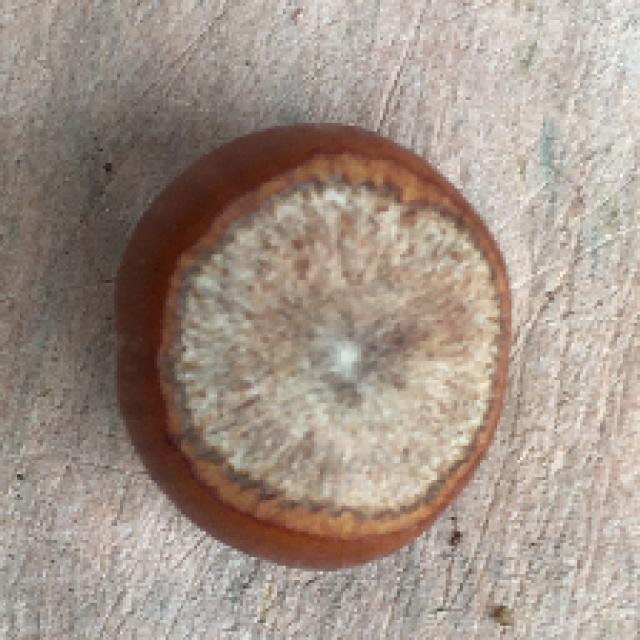qualityHazelnut: (104, 117, 518, 575)
